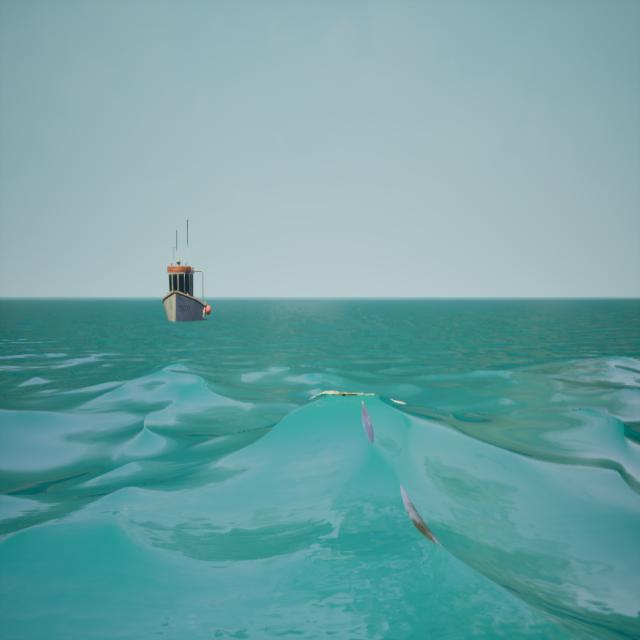ship: (160, 206, 213, 328)
